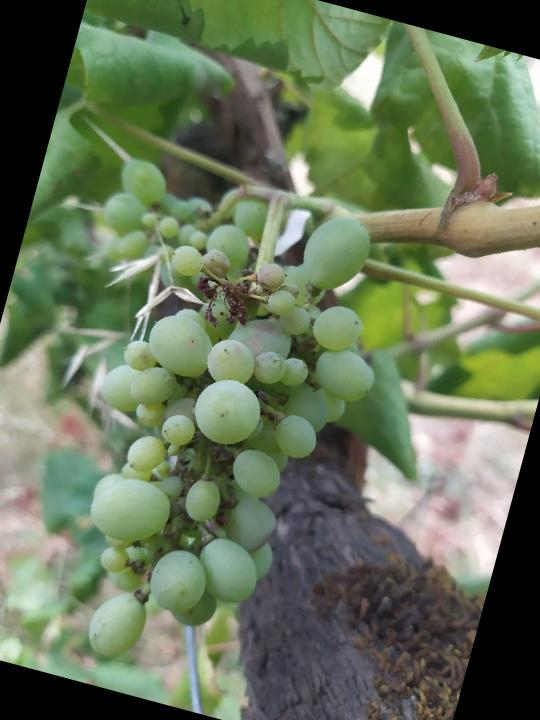grape: (30, 164, 418, 708)
